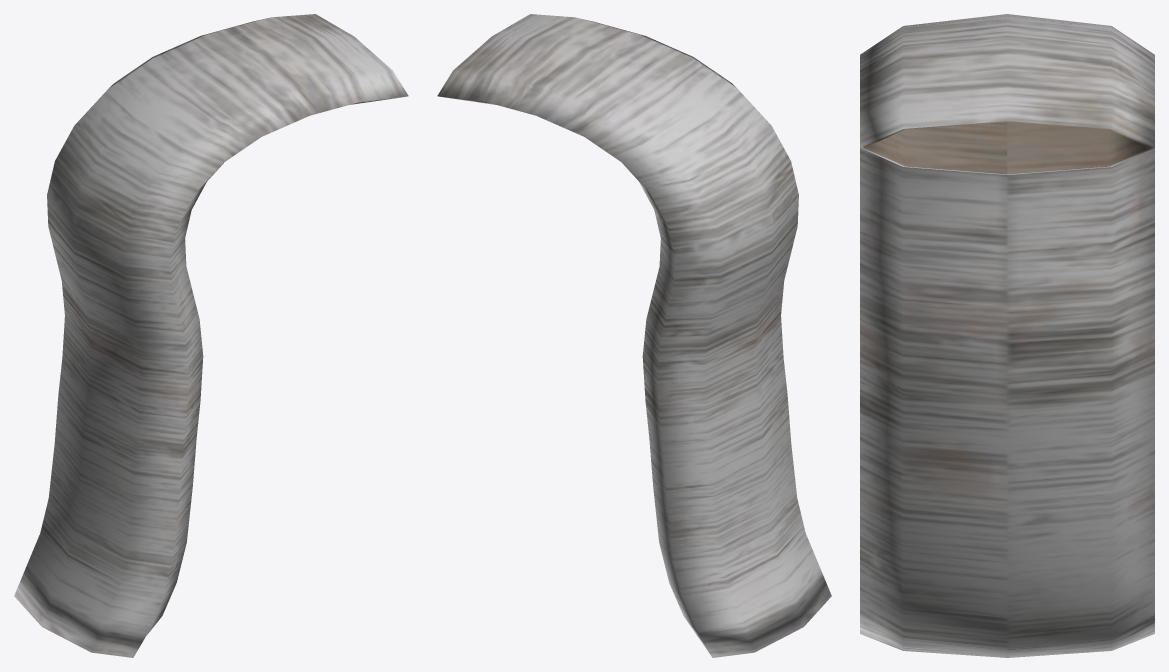
File: pipe.fbx
3 renders of one model, left to right at view 1: azimuth 30°, elevation 25°; view 2: azimuth 150°, elevation 25°; view 3: azimuth 270°, elevation 25°, orthographic. The views are drawn at different scales.
Parts seen in each view (by area): view 1: Insulation_Pipe_1_LOD0_as_Plastic_Rope_Flexible_Duct_0; view 2: Insulation_Pipe_1_LOD0_as_Plastic_Rope_Flexible_Duct_0; view 3: Insulation_Pipe_1_LOD0_as_Plastic_Rope_Flexible_Duct_0.
Part boxes in pixels (bbox=[...]): Insulation_Pipe_1_LOD0_as_Plastic_Rope_Flexible_Duct_0: bbox=[14, 14, 408, 657]; Insulation_Pipe_1_LOD0_as_Plastic_Rope_Flexible_Duct_0: bbox=[437, 14, 831, 657]; Insulation_Pipe_1_LOD0_as_Plastic_Rope_Flexible_Duct_0: bbox=[860, 14, 1154, 657].
Size of the model in its own units: 178 by 285 by 108.
Materials: 1 (1 with a texture image).
